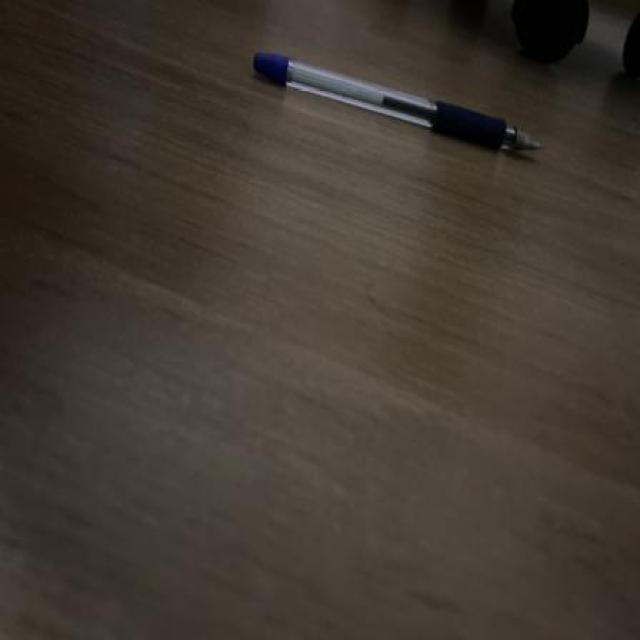pen: (251, 46, 545, 160)
